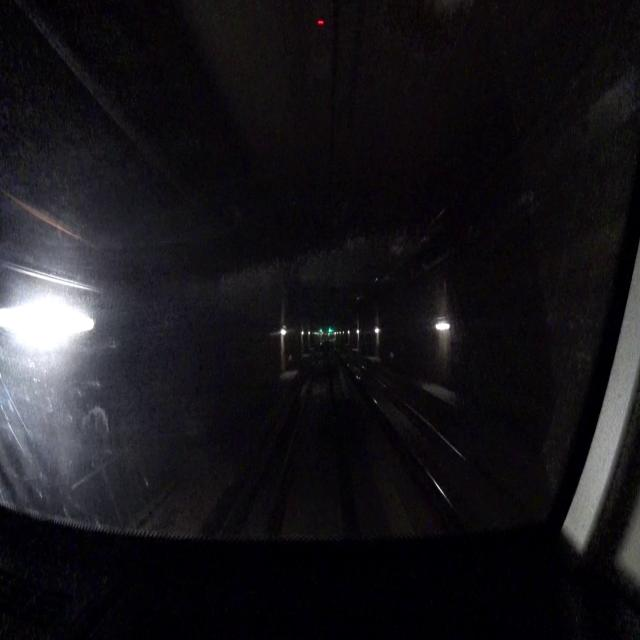rail-track: (340, 348, 527, 529), (263, 343, 350, 539)
